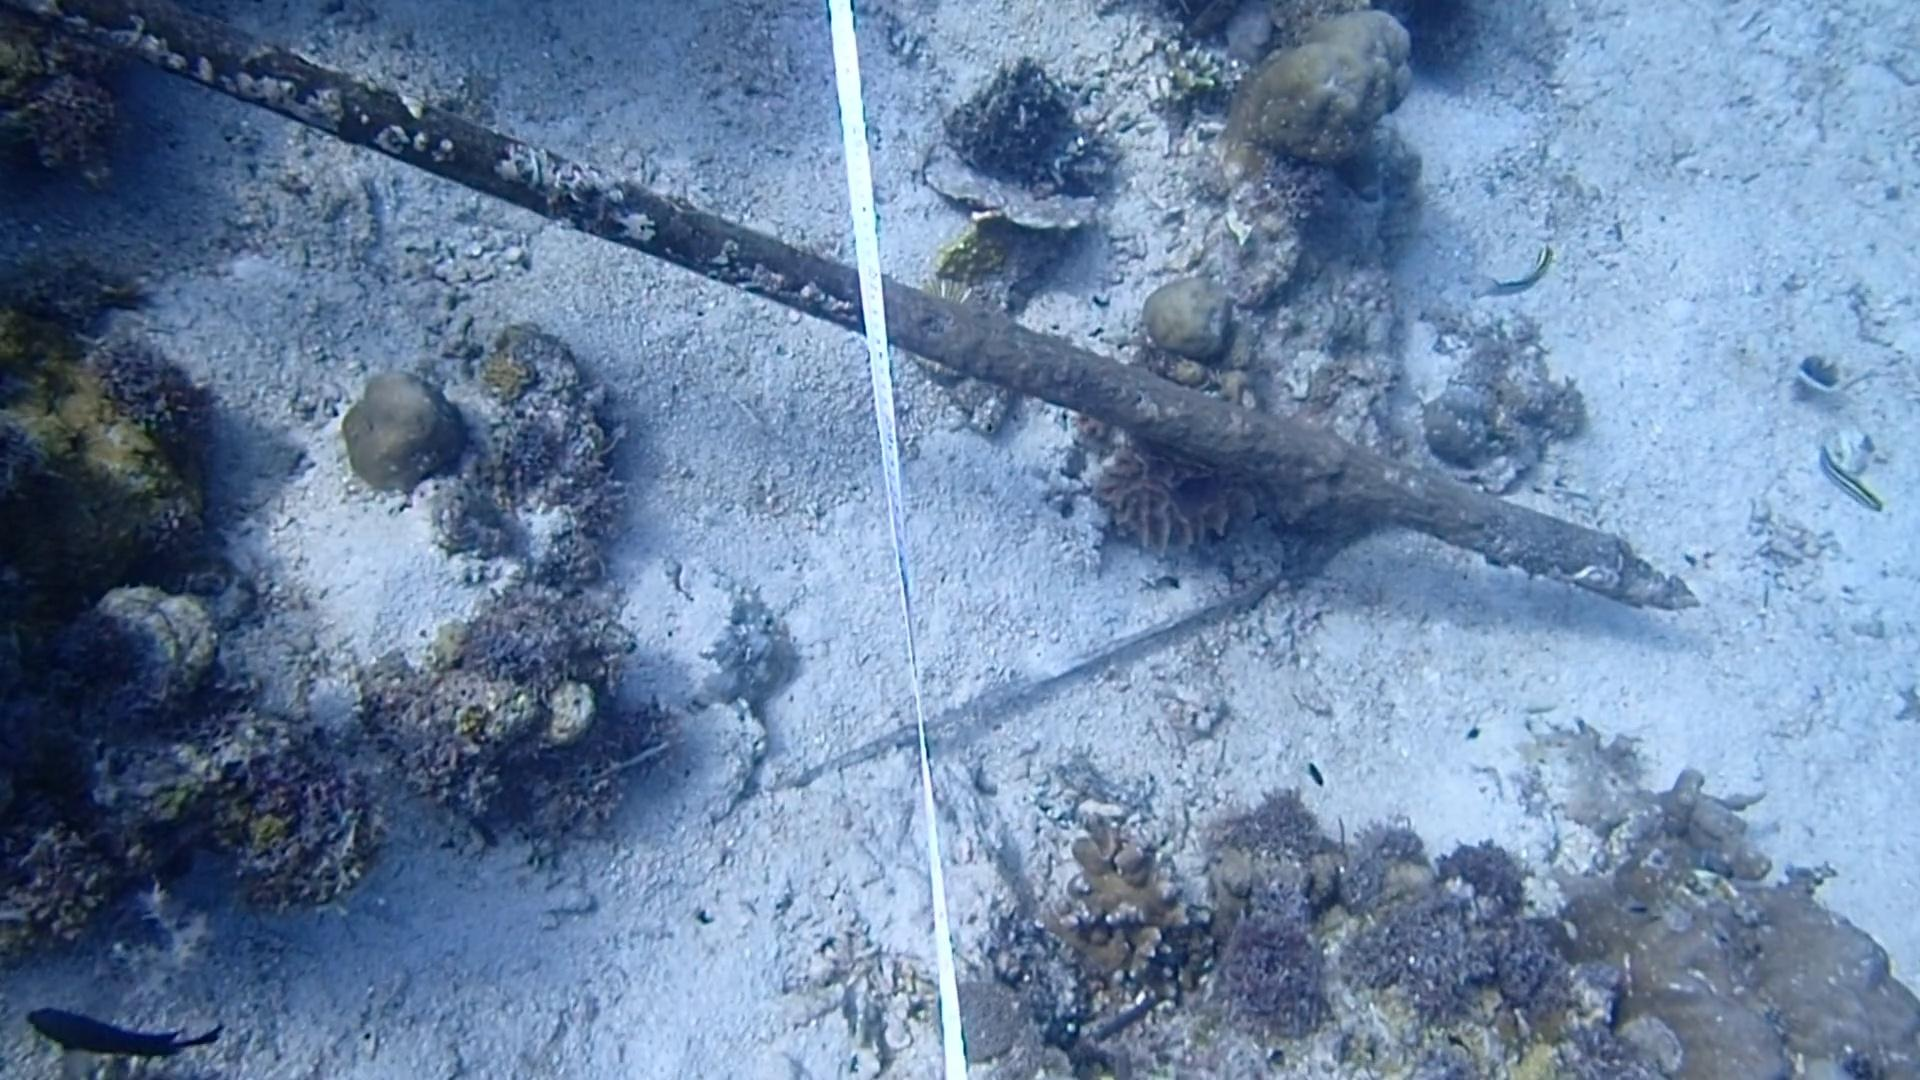Dark Fish: (20, 994, 224, 1072)
Striped Fish: (1465, 231, 1568, 315), (1799, 442, 1895, 513)
